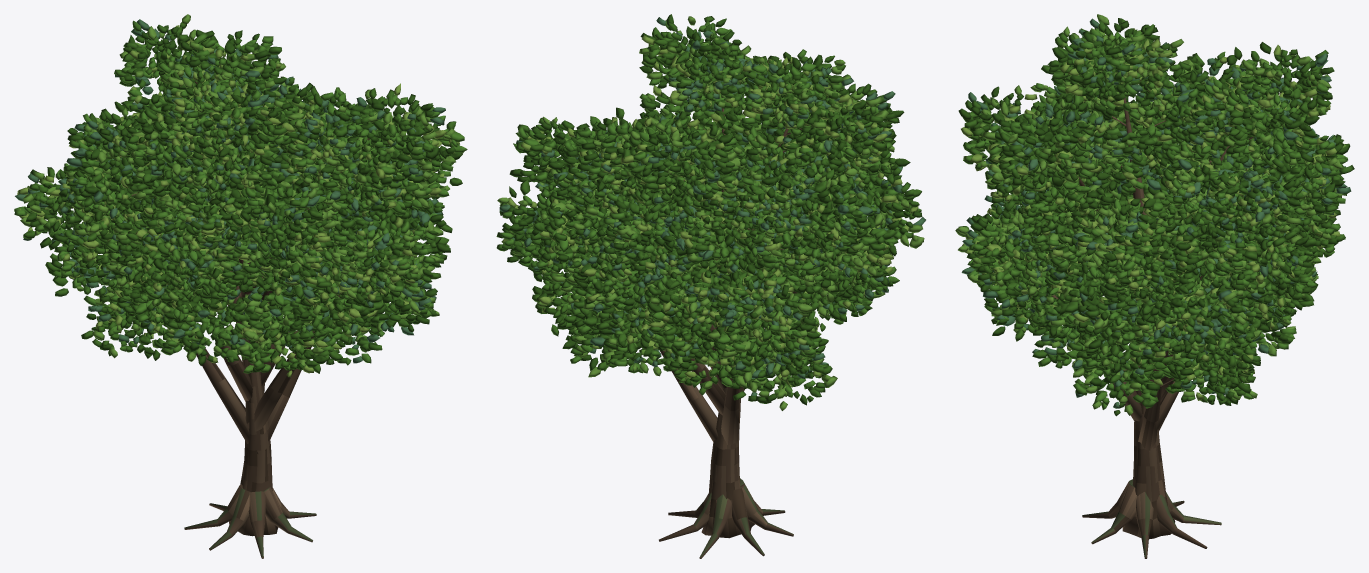
Rendered from forest-tree-2.glb.
3 renders of one model, left to right at view 1: azimuth 30°, elevation 25°; view 2: azimuth 150°, elevation 25°; view 3: azimuth 270°, elevation 25°, orthographic.
Visible parts, largest first — view 1: forest-tree-2/1, forest-tree-2/0; view 2: forest-tree-2/1, forest-tree-2/0; view 3: forest-tree-2/1, forest-tree-2/0.
Boxes of the visible parts, left/top/right/bottom form: forest-tree-2/1: left=14, top=14, right=467, bottom=377; forest-tree-2/0: left=70, top=81, right=370, bottom=558; forest-tree-2/1: left=496, top=14, right=925, bottom=410; forest-tree-2/0: left=659, top=108, right=836, bottom=558; forest-tree-2/1: left=955, top=14, right=1354, bottom=416; forest-tree-2/0: left=1030, top=71, right=1282, bottom=558.
Size of the model in its own units: 2.8 by 3.27 by 2.54.
